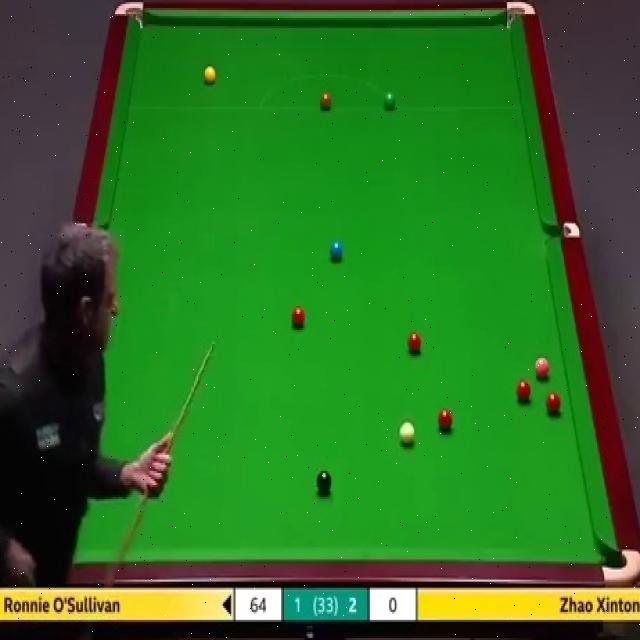black-ball: (316, 468, 332, 493)
blue-ball: (330, 240, 343, 263)
brown-ball: (320, 93, 332, 111)
green-ball: (384, 91, 396, 111)
pink-ball: (535, 355, 551, 381)
red-ball: (436, 408, 453, 433), (408, 329, 423, 354), (516, 380, 532, 402), (547, 393, 561, 416), (292, 306, 305, 329)
white-ball: (398, 420, 416, 448)
yellow-ball: (203, 66, 218, 87)
